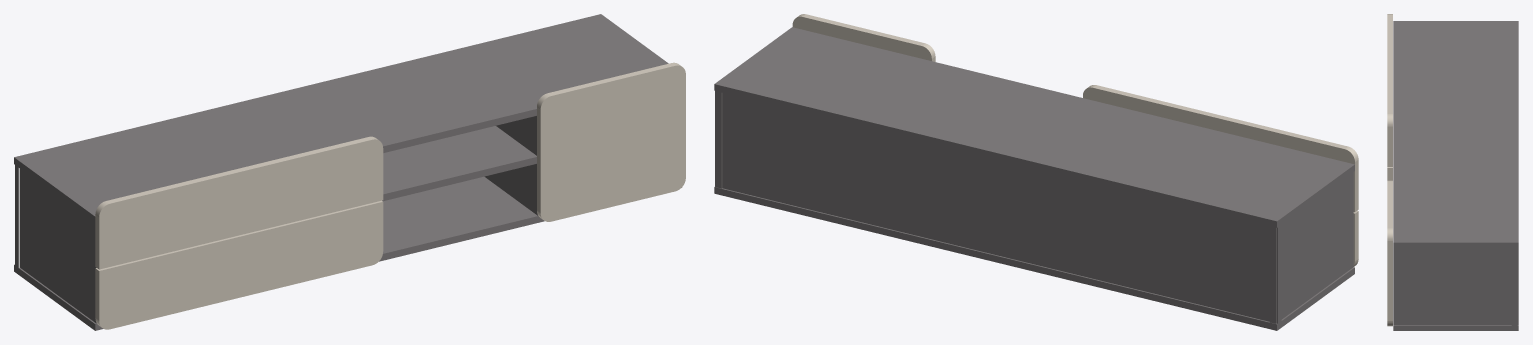
File: 2pir_szafka_rtv_180.obj
The picture shows the model from 3 angles, left to right: view 1: azimuth 30°, elevation 25°; view 2: azimuth 150°, elevation 25°; view 3: azimuth 270°, elevation 25°; orthographic projection. The views are drawn at different scales.
Visible parts, largest first — view 1: Box04, Rectangle12, Rectangle13, Box02, Box06, Box03, Box08, Box09; view 2: Box09, Box04, Box06, Rectangle12, Box02, Rectangle13, Box05; view 3: Box04, Box05, Rectangle12, Rectangle13, Box02, Box09.
Boxes of the visible parts, x1,y1,x2,y2 form: Box04: [14, 14, 668, 222]; Rectangle12: [95, 136, 383, 329]; Rectangle13: [537, 62, 685, 221]; Box02: [14, 176, 544, 330]; Box06: [20, 169, 96, 323]; Box03: [382, 126, 536, 201]; Box08: [484, 116, 538, 215]; Box09: [15, 162, 19, 270]; Box09: [715, 91, 1281, 326]; Box04: [714, 27, 1354, 227]; Box06: [1269, 172, 1353, 323]; Rectangle12: [1083, 85, 1358, 266]; Box02: [714, 187, 1354, 330]; Rectangle13: [792, 14, 935, 61]; Box05: [715, 91, 722, 188]; Box04: [1393, 21, 1518, 247]; Box05: [1393, 248, 1518, 324]; Rectangle12: [1387, 14, 1392, 180]; Rectangle13: [1387, 180, 1392, 326]; Box02: [1393, 325, 1518, 330]; Box09: [1511, 245, 1517, 329].
Size of the model in its own units: 179 by 37.21 by 45.04.
